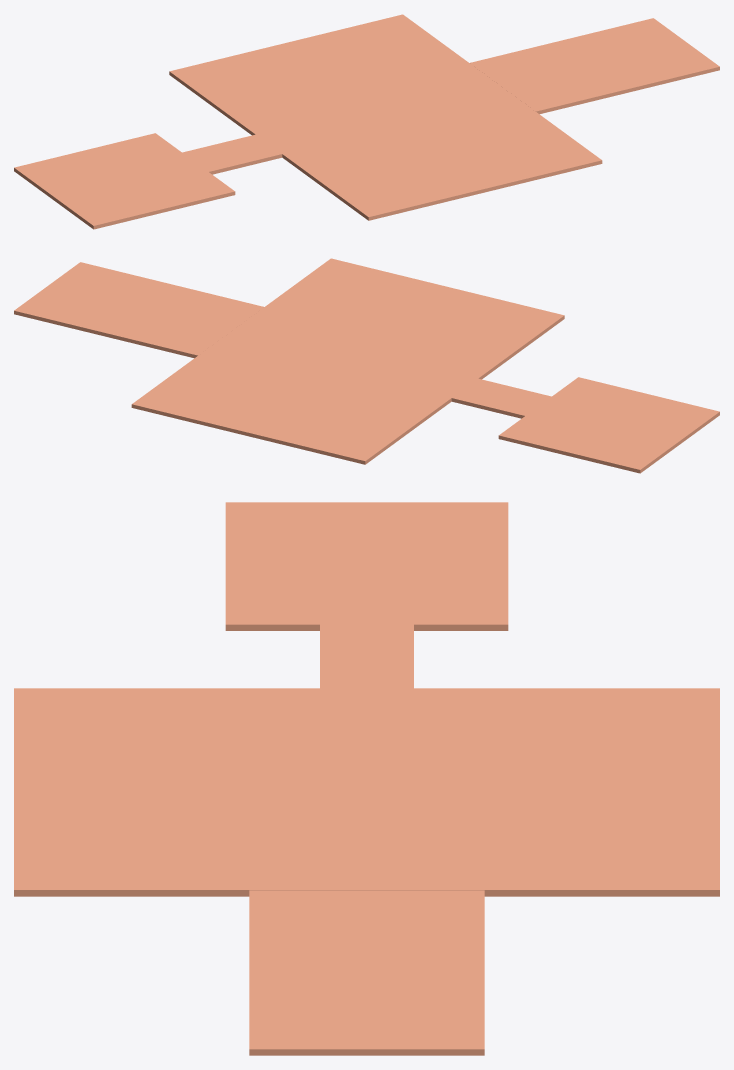
The model's file is houseroof.fbx.
3 renders of one model, top to bottom at view 1: azimuth 30°, elevation 25°; view 2: azimuth 150°, elevation 25°; view 3: azimuth 270°, elevation 25°, orthographic. The views are drawn at different scales.
Parts seen in each view (by area): view 1: houseroof; view 2: houseroof; view 3: houseroof.
Boxes of the visible parts, x1,y1,x2,y2 form: houseroof: (14,14,719,229); houseroof: (14,258,719,473); houseroof: (14,502,719,1055).
Size of the model in its own units: 55.01 by 0.3 by 30.
